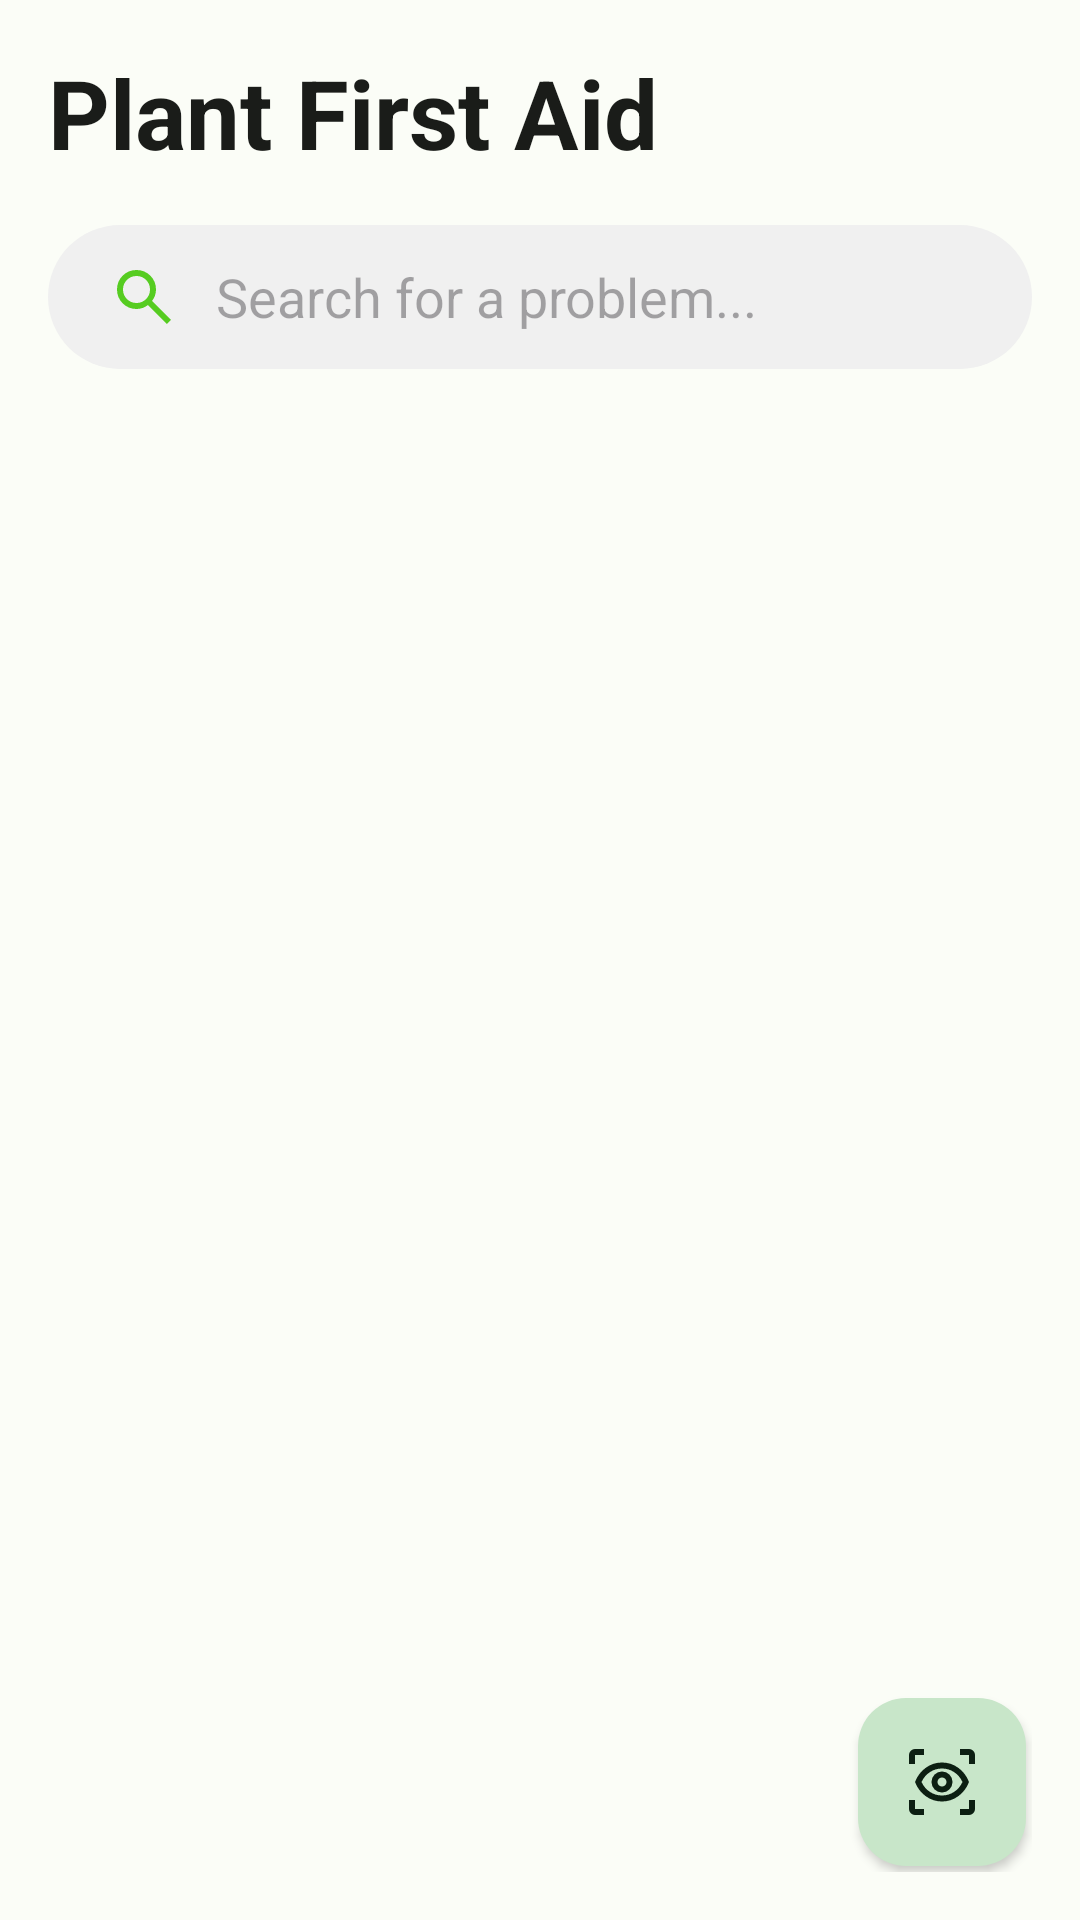

Icons on this 1080w x 1920h Android screen, each with its box as (x1, y1, x2, y2):
observe: (858, 1698, 1026, 1866)
